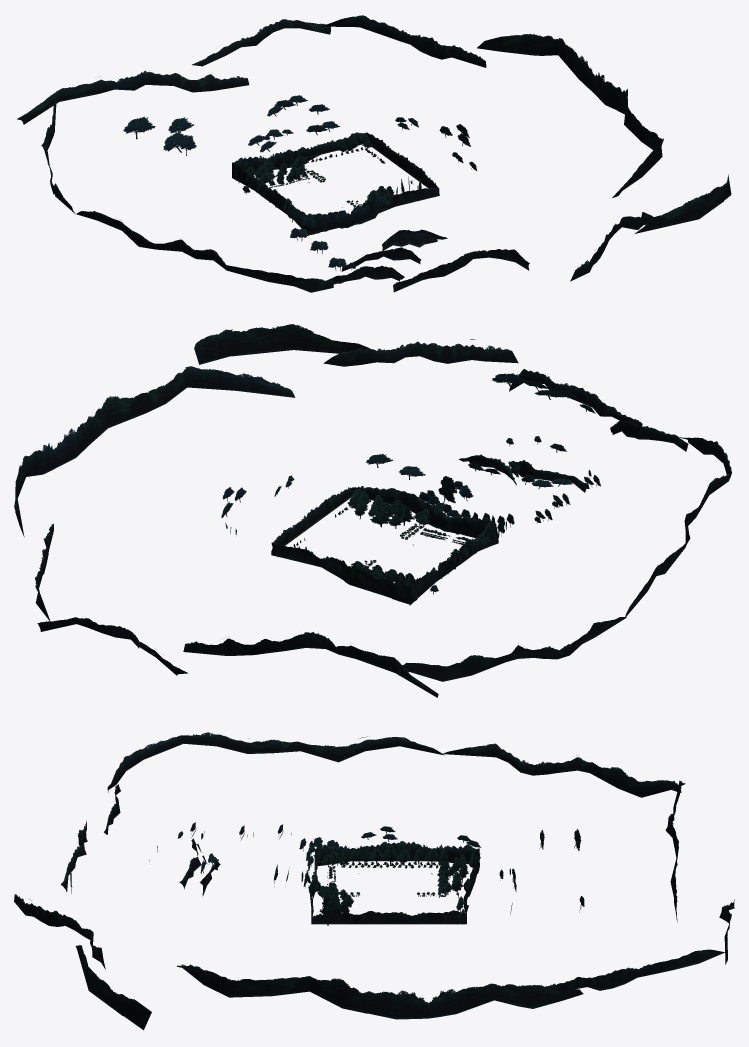
The model's file is st_031_trees.fbx.
3 renders of one model, top to bottom at view 1: azimuth 30°, elevation 25°; view 2: azimuth 150°, elevation 25°; view 3: azimuth 270°, elevation 25°, orthographic. The views are drawn at different scales.
Visible parts, largest first — view 1: st_031_trees1; view 2: st_031_trees1; view 3: st_031_trees1.
Boxes of the visible parts, box(x1,y1,x2,y2) form: st_031_trees1: box(17, 15, 731, 292); st_031_trees1: box(14, 324, 731, 697); st_031_trees1: box(14, 732, 734, 1030).
Bounding box in the file's own units: 1004 × 117 × 1124.
